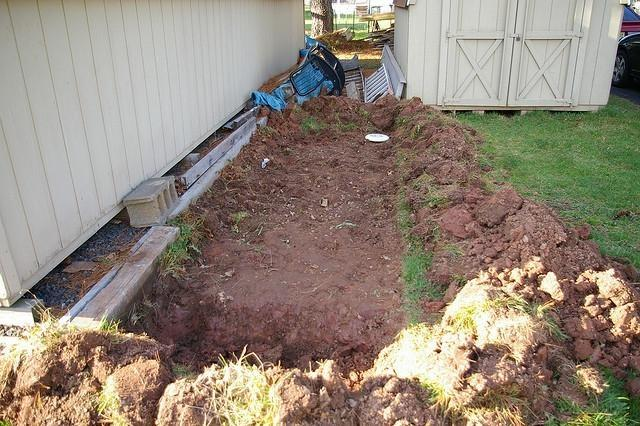car: (612, 31, 640, 91)
